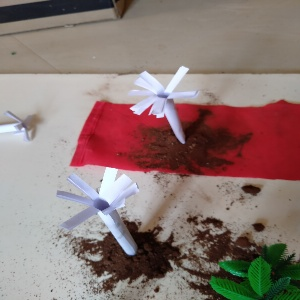plant: (211, 232, 295, 300)
weed: (48, 163, 143, 262), (128, 59, 194, 140), (1, 105, 34, 147)
